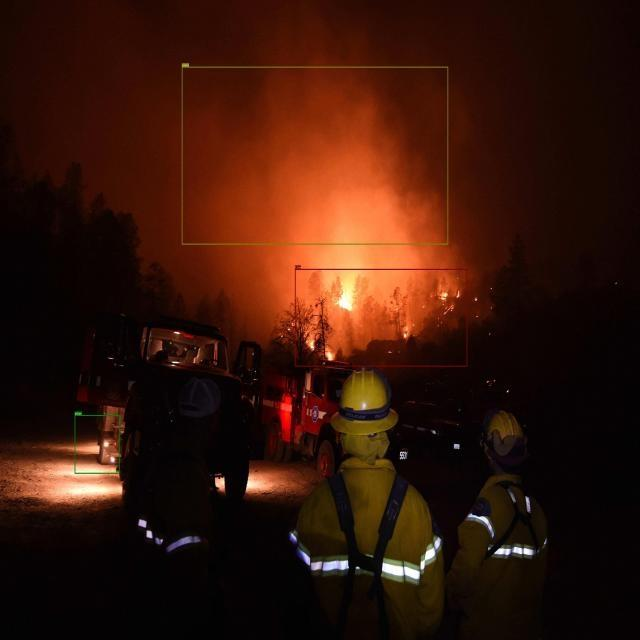fire: (295, 269, 467, 366)
smoke: (182, 67, 448, 245)
